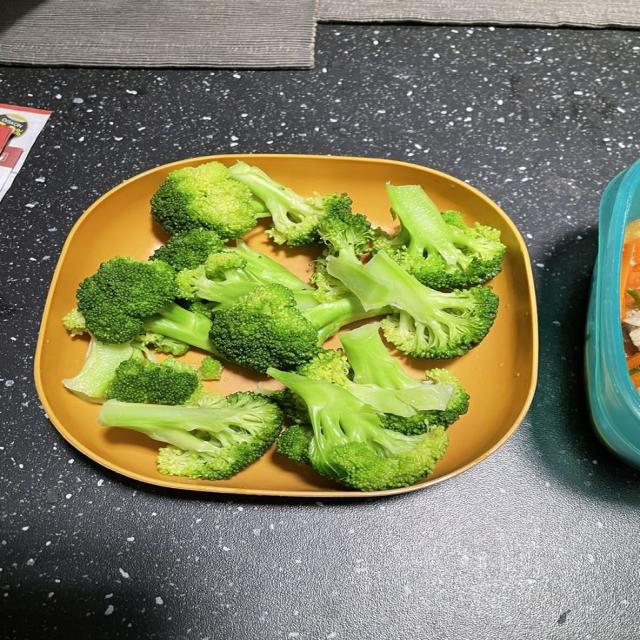broccoli: (267, 369, 447, 490), (327, 251, 498, 359), (210, 284, 390, 371), (99, 393, 281, 479), (340, 323, 469, 433), (374, 185, 505, 289), (77, 258, 214, 352), (296, 350, 453, 432), (296, 350, 452, 417), (229, 162, 352, 246), (176, 243, 316, 307), (152, 162, 262, 240), (383, 368, 469, 434), (311, 212, 373, 302), (62, 337, 143, 402), (106, 357, 200, 405), (225, 239, 311, 290), (150, 228, 223, 270), (319, 211, 373, 257), (310, 250, 350, 302), (295, 350, 350, 386), (277, 424, 313, 465), (134, 332, 189, 356), (135, 332, 189, 356), (62, 308, 87, 336), (187, 300, 218, 319), (200, 357, 223, 380)
